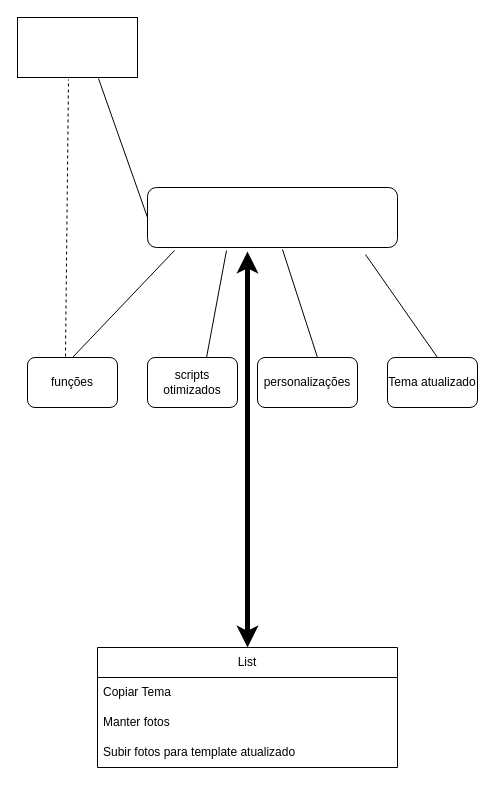
Image size: 495x785. Some labels were removed from this diagram. The centre of each missing label's shape, as x and y in pixels:
site atual: pixel 77 47
site novo: pixel 272 217
